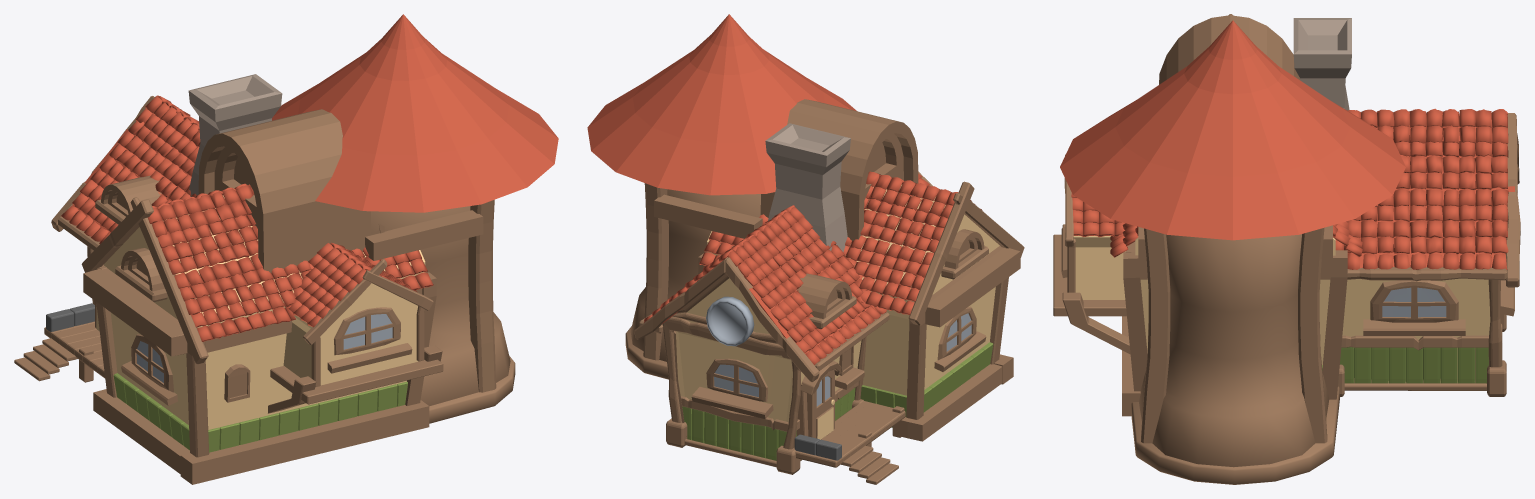
File: Coloured_MageHouse_2.fbx
3 views of the same model, side by side, from view 1: azimuth 30°, elevation 25°; view 2: azimuth 150°, elevation 25°; view 3: azimuth 270°, elevation 25° (orthographic). The views are drawn at different scales.
Visible parts, largest first — view 1: Mage_House; view 2: Mage_House; view 3: Mage_House.
Part boxes in pixels (x1=…): Mage_House: x1=14, y1=14, x2=558, y2=484; Mage_House: x1=587, y1=14, x2=1024, y2=484; Mage_House: x1=1053, y1=14, x2=1520, y2=484.
Bounding box in the file's own units: 1945 × 1891 × 2185.
